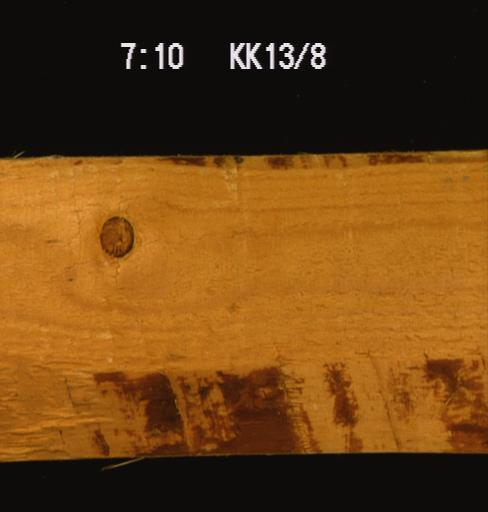wave: (0, 334, 487, 453), (166, 149, 487, 178)
